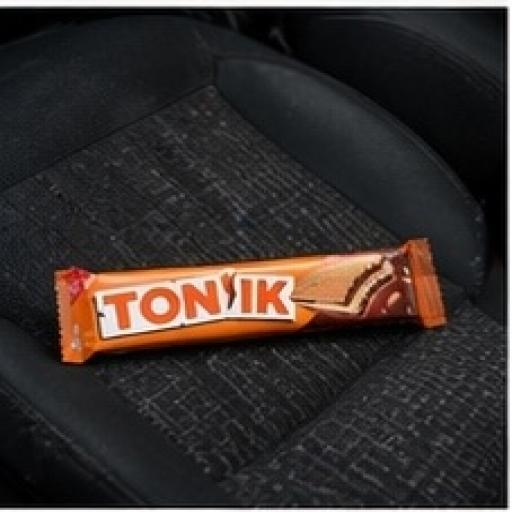tonik: (48, 204, 472, 427)
